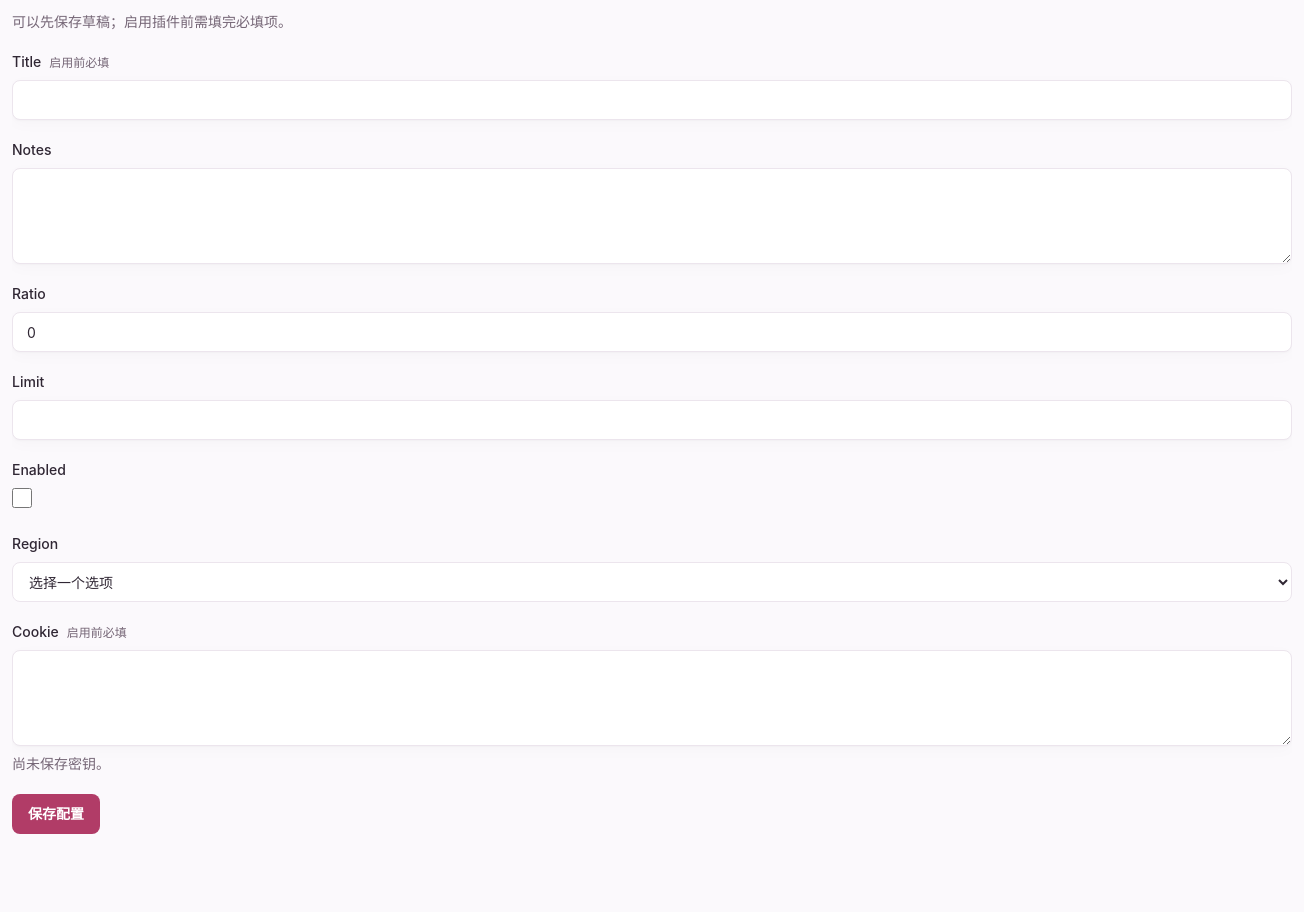
Scenario: renders failures and field guidance in Chinese
Step 1. Click the button "保存配置" → (56, 814), box [12,794,100,834]
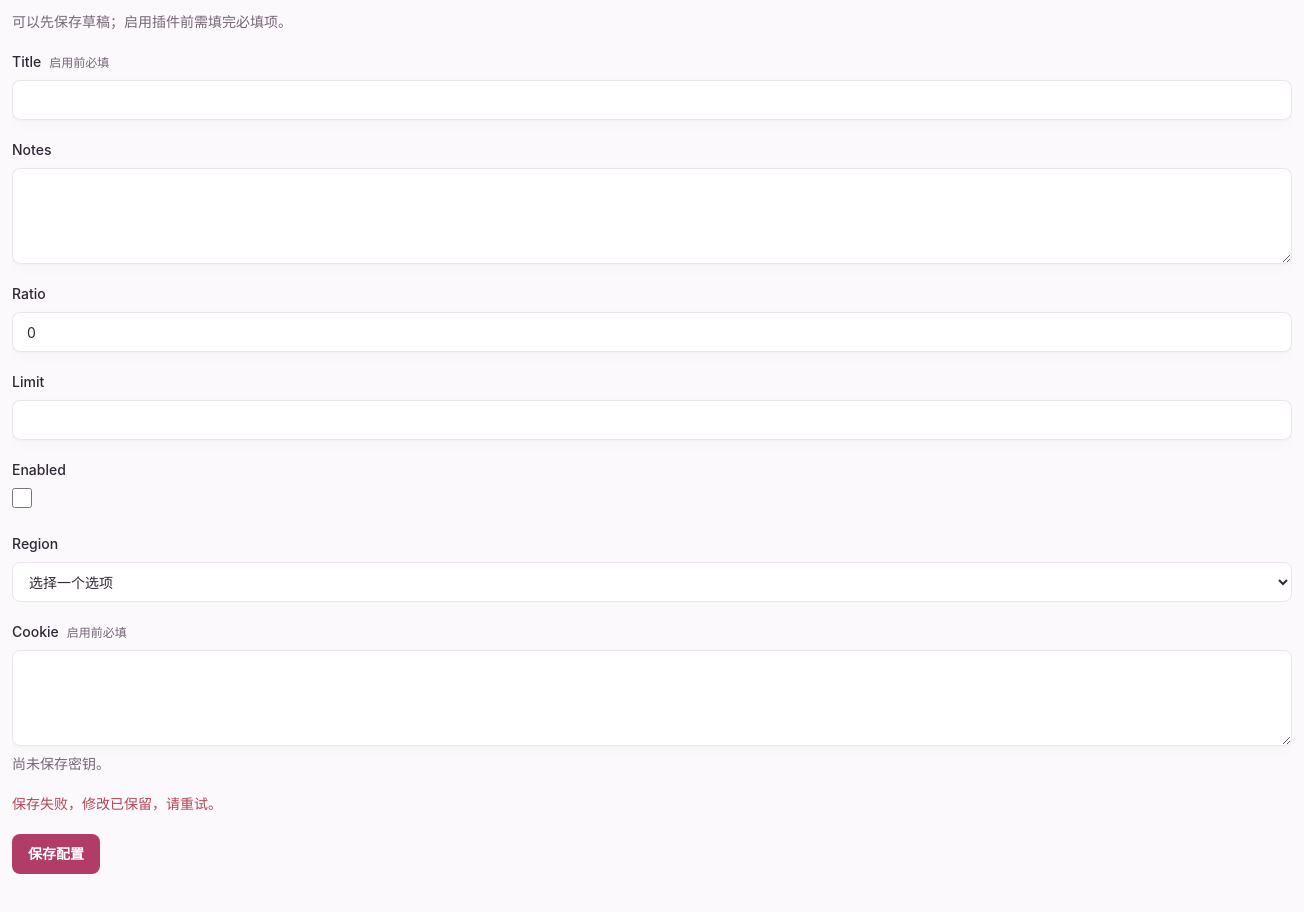
expect the text "尚未保存密钥。" is shown: met, box [12,754,110,774]
expect the message reads "保存失败，修改已保留，请重试。": met, box [12,795,222,812]
